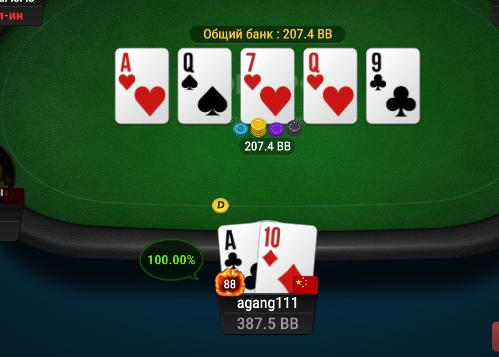10d: (259, 222, 317, 296)
7h: (241, 49, 294, 122)
9c: (367, 49, 420, 122)
Ac: (218, 223, 260, 294)
Ah: (115, 49, 169, 122)
Qh: (303, 49, 356, 122)
Qs: (178, 48, 232, 123)
